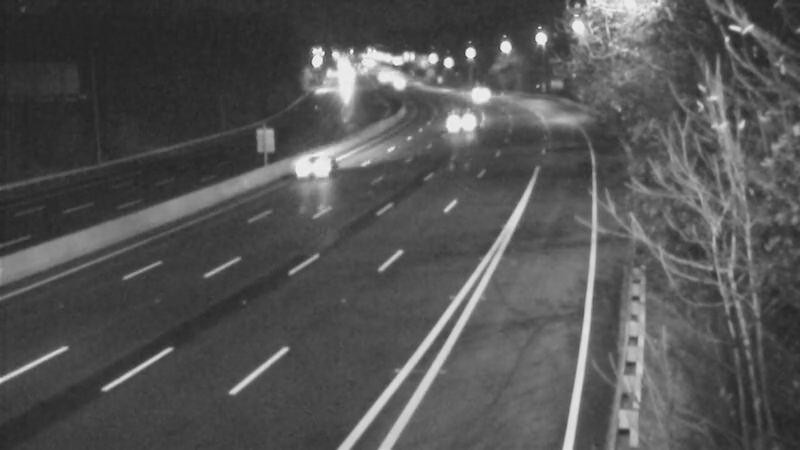vehicle: (290, 123, 370, 203), (357, 52, 407, 102), (372, 58, 422, 108), (451, 65, 501, 115), (444, 96, 494, 146), (318, 56, 368, 106)
